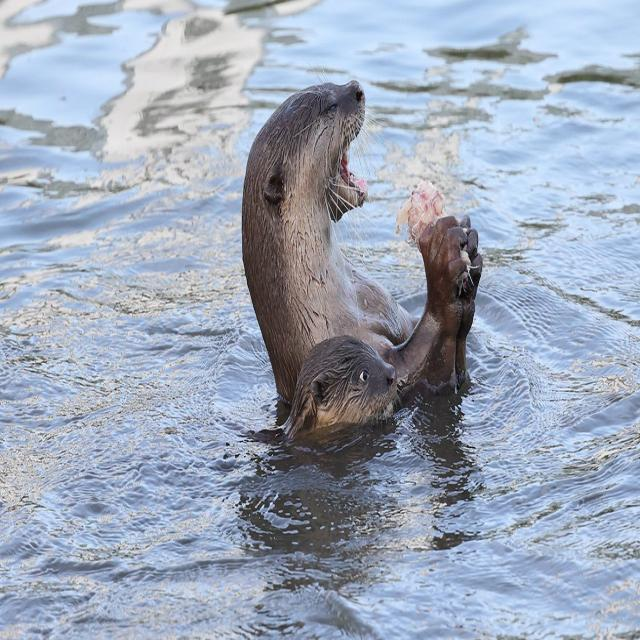Otter: (239, 67, 484, 436), (287, 326, 400, 438)
